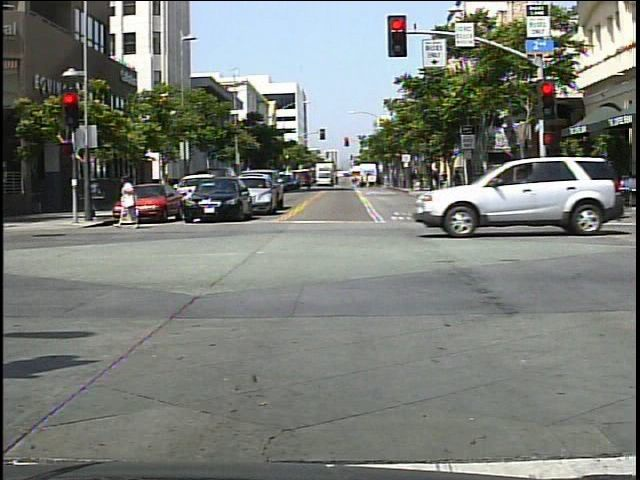person: (115, 170, 147, 234), (537, 169, 570, 230), (549, 160, 571, 211)
